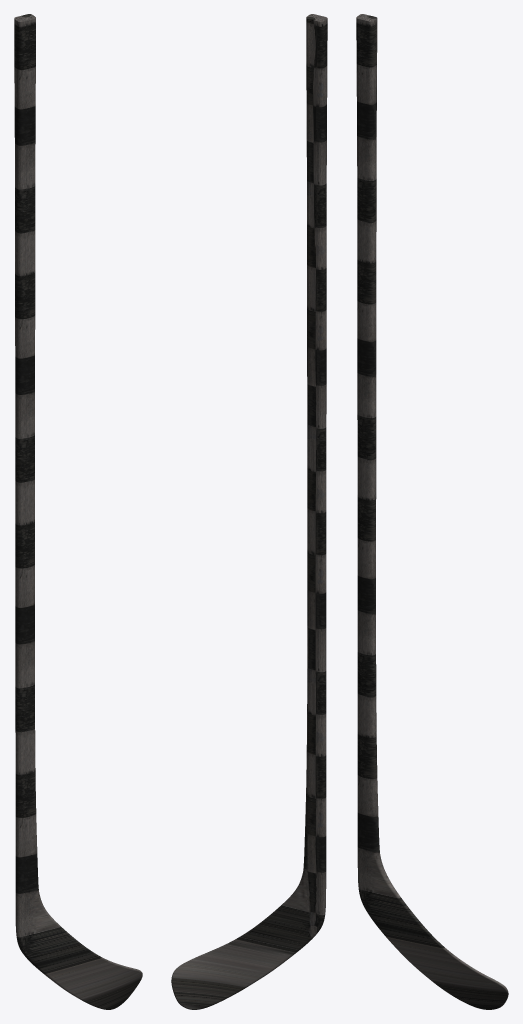
Rendered from P8TM-SBO.glb.
3 renders of one model, left to right at view 1: azimuth 30°, elevation 25°; view 2: azimuth 150°, elevation 25°; view 3: azimuth 330°, elevation 25°, orthographic. The views are drawn at different scales.
Visible parts, largest first — view 1: geometry_0; view 2: geometry_0; view 3: geometry_0.
Boxes of the visible parts, x1,y1,x2,y2 form: geometry_0: (14, 14, 142, 1009); geometry_0: (171, 14, 327, 1009); geometry_0: (356, 14, 508, 1009).
Size of the model in its own units: 237 by 1650 by 68.66.
Materials: 1 (1 with a texture image).
